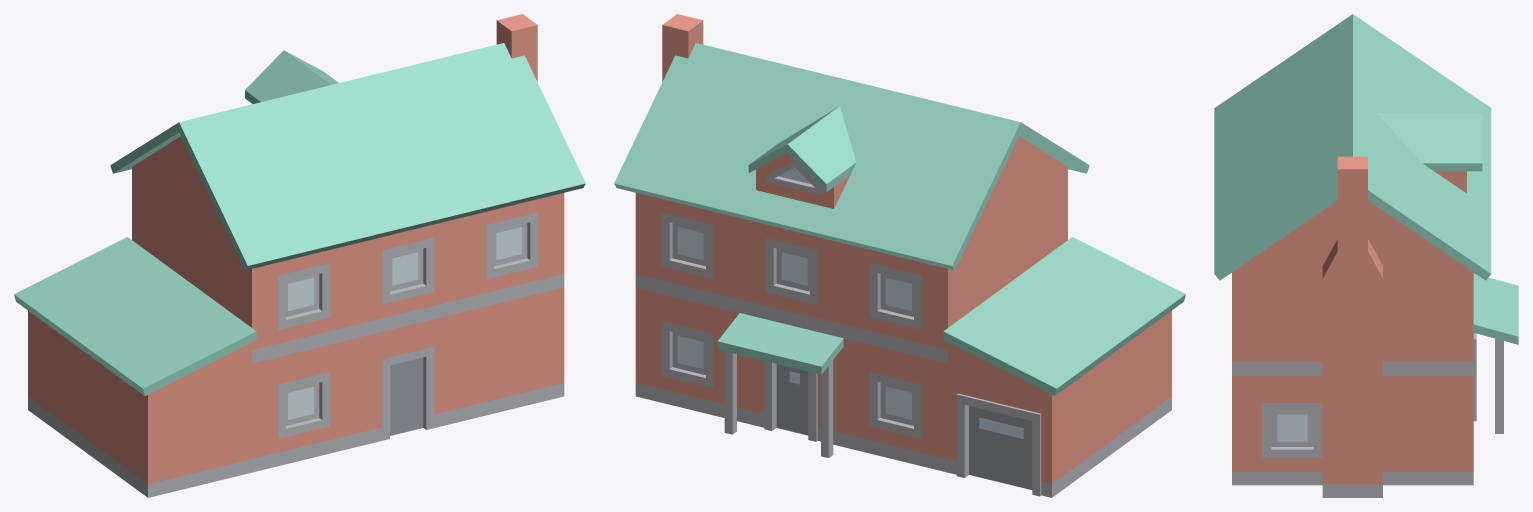
File: casa2.glb
3 renders of one model, left to right at view 1: azimuth 30°, elevation 25°; view 2: azimuth 150°, elevation 25°; view 3: azimuth 270°, elevation 25°, orthographic.
Parts seen in each view (by area): view 1: house_type08; view 2: house_type08; view 3: house_type08.
Part boxes in pixels (x1=…): house_type08: x1=14, y1=14, x2=585, y2=497; house_type08: x1=614, y1=14, x2=1185, y2=497; house_type08: x1=1214, y1=14, x2=1518, y2=497.
Bounding box in the file's own units: 1.74 × 1.2 × 1.01.
1 material, 1 textured.
